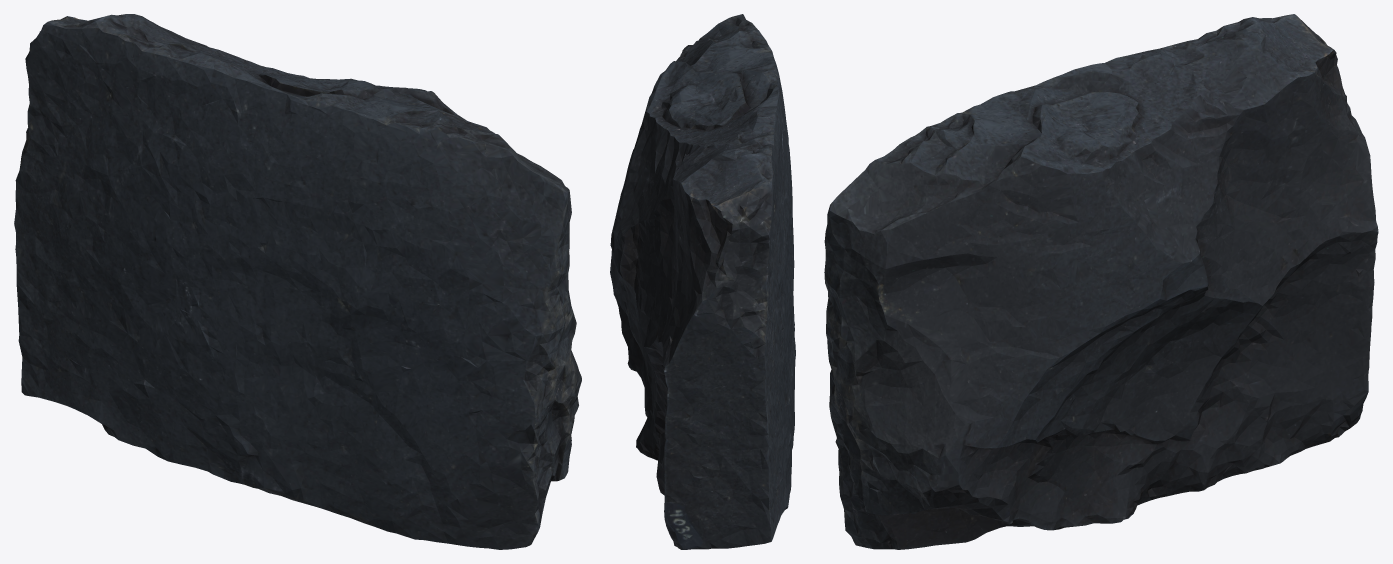
File: basalt_low_ar.glb
3 renders of one model, left to right at view 1: azimuth 30°, elevation 25°; view 2: azimuth 150°, elevation 25°; view 3: azimuth 270°, elevation 25°, orthographic. The views are drawn at different scales.
Parts seen in each view (by area): view 1: model; view 2: model; view 3: model.
Boxes of the visible parts, <box> form: model: <box>14,14,581,549</box>; model: <box>610,14,795,549</box>; model: <box>824,14,1378,549</box>.
Bounding box in the file's own units: 19.51 × 22.68 × 26.79.
1 material, 1 textured.
